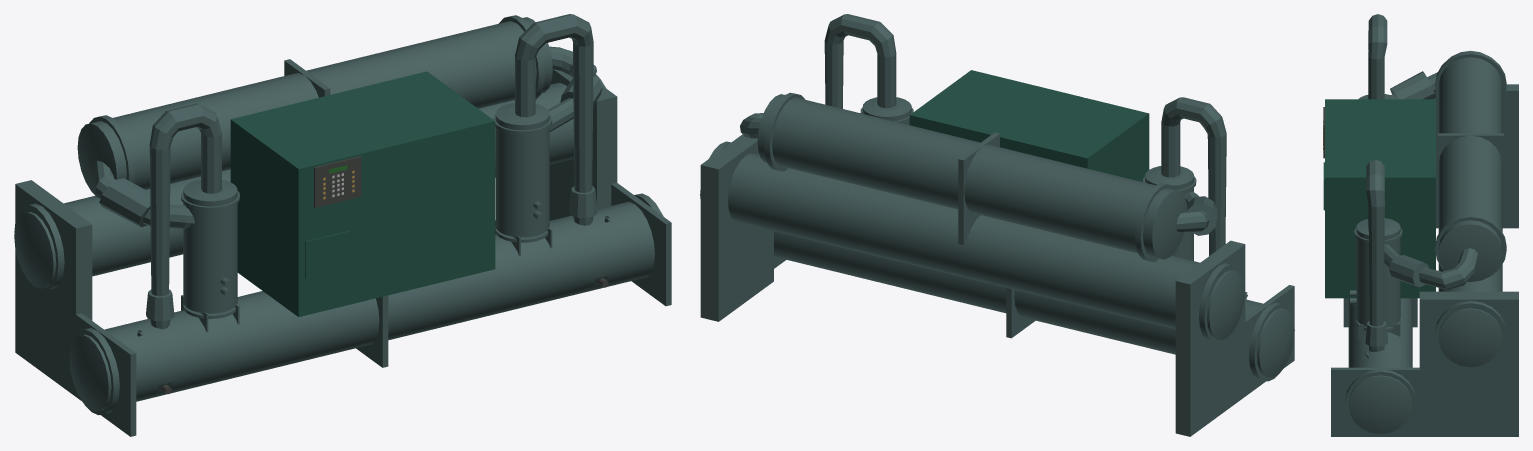
The model's file is Chiller.glb.
3 renders of one model, left to right at view 1: azimuth 30°, elevation 25°; view 2: azimuth 150°, elevation 25°; view 3: azimuth 270°, elevation 25°, orthographic. The views are drawn at different scales.
Size of the model in its own units: 7.36 by 3.5 by 2.65.
